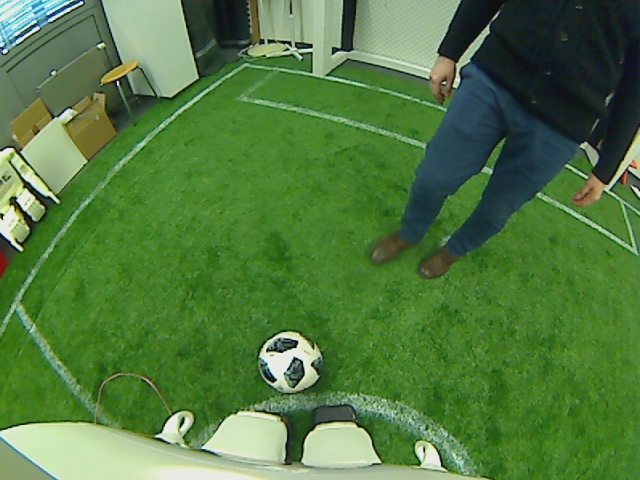ball: (256, 327, 323, 393)
